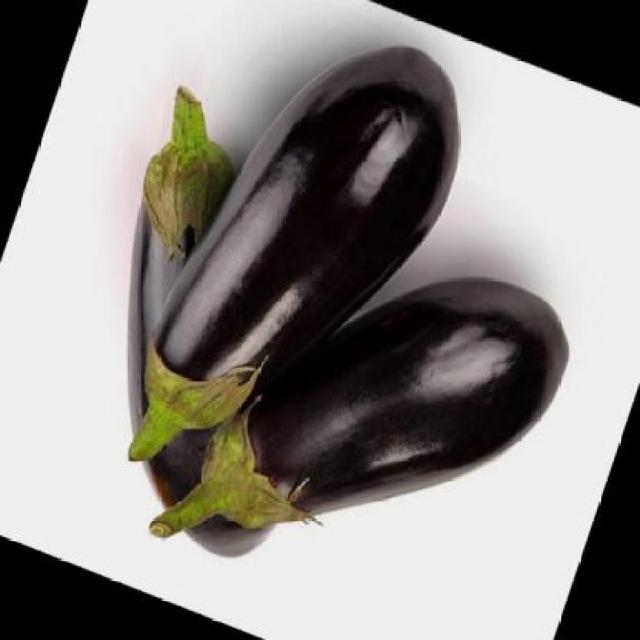eggplant: (143, 180, 586, 640), (117, 42, 490, 478), (122, 81, 278, 570)
